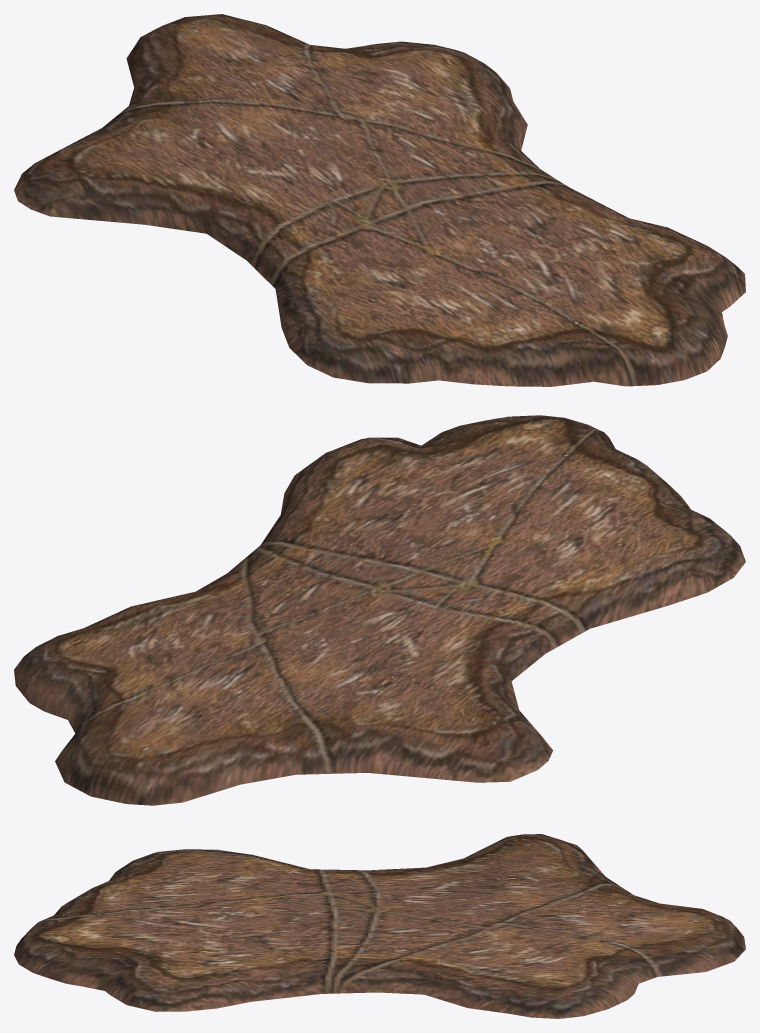
Rendered from con_gen_organic_hide_bristly_l0.fbx.
3 renders of one model, top to bottom at view 1: azimuth 30°, elevation 25°; view 2: azimuth 150°, elevation 25°; view 3: azimuth 270°, elevation 25°, orthographic. The views are drawn at different scales.
Parts seen in each view (by area): view 1: mesh_node; view 2: mesh_node; view 3: mesh_node.
Part boxes in pixels (x1,y1,x2,y2): mesh_node: [14, 14, 745, 386]; mesh_node: [14, 415, 745, 805]; mesh_node: [14, 834, 745, 1018].
Size of the model in its own units: 1.17 by 0.0844 by 2.
